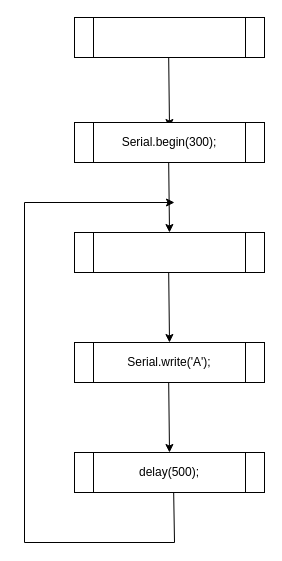
The diagram is 282 pixels wide and 561 high, and some of its shapes have lost their labels. The shapes that lost their labels are listed below. From the top down, each one's centre as x and y in pixels, then its label:
At point (169, 37): "void setup()".
At point (169, 252): "void loop()".
